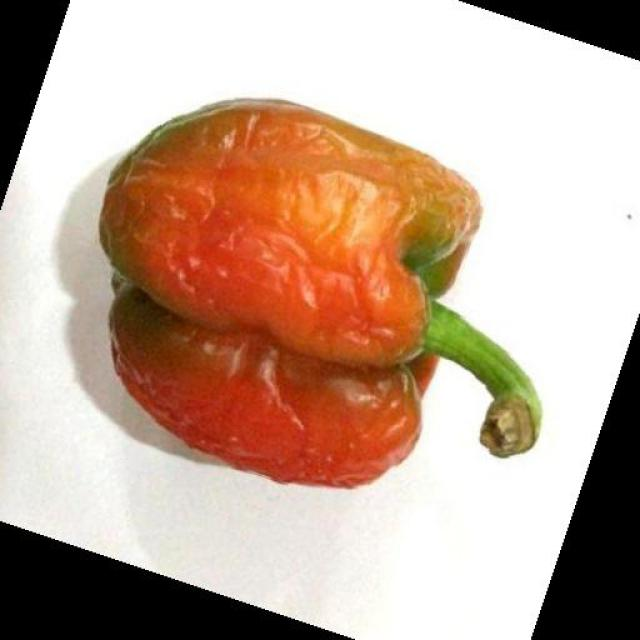Stale_Capsicum: (68, 75, 547, 528)
